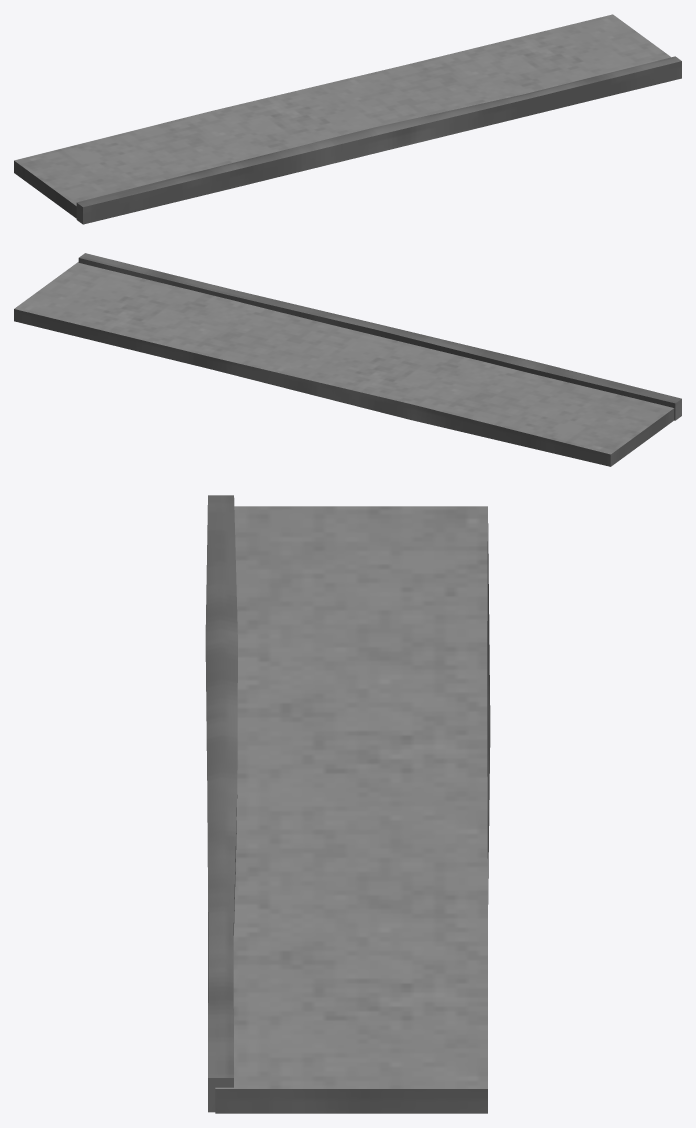
File: sidewalk01.FBX
3 views of the same model, one above another, from view 1: azimuth 30°, elevation 25°; view 2: azimuth 150°, elevation 25°; view 3: azimuth 270°, elevation 25° (orthographic). The views are drawn at different scales.
Parts seen in each view (by area): view 1: Box002; view 2: Box002; view 3: Box002.
Boxes of the visible parts, x1=… form: Box002: x1=14, y1=14, x2=681, y2=224; Box002: x1=14, y1=253, x2=681, y2=466; Box002: x1=205, y1=495, x2=490, y2=1113.
Bounding box in the file's own units: 3.01 × 0.1009 × 0.62.
